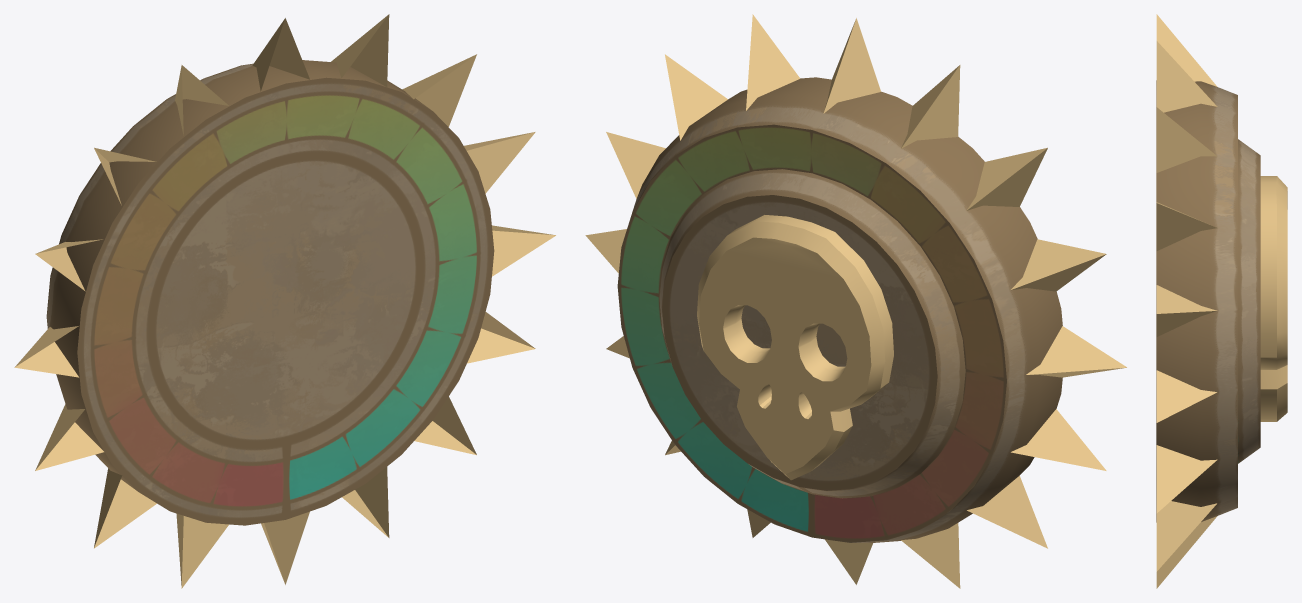
File: MayanTimerA.fbx
3 views of the same model, side by side, from view 1: azimuth 30°, elevation 25°; view 2: azimuth 150°, elevation 25°; view 3: azimuth 270°, elevation 25° (orthographic). The views are drawn at different scales.
Visible parts, largest first — view 1: Circle, Cube; view 2: Circle, Cube.010, Cube; view 3: Circle, Cube, Cube.010.
Part boxes in pixels (x1,y1,x2,y2): Circle: [46, 60, 494, 525]; Cube: [14, 14, 555, 588]; Circle: [617, 77, 1062, 542]; Cube.010: [697, 215, 893, 480]; Cube: [585, 14, 1126, 588]; Circle: [1156, 80, 1260, 522]; Cube: [1156, 14, 1217, 588]; Cube.010: [1260, 176, 1287, 421].
Bounding box in the file's own units: 2047 × 2047 × 468.
Materials: 2 (1 with a texture image).
